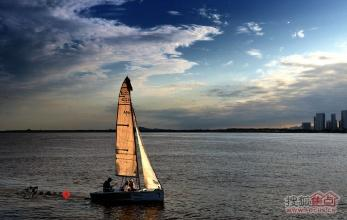fanchuan: (86, 77, 179, 205)
